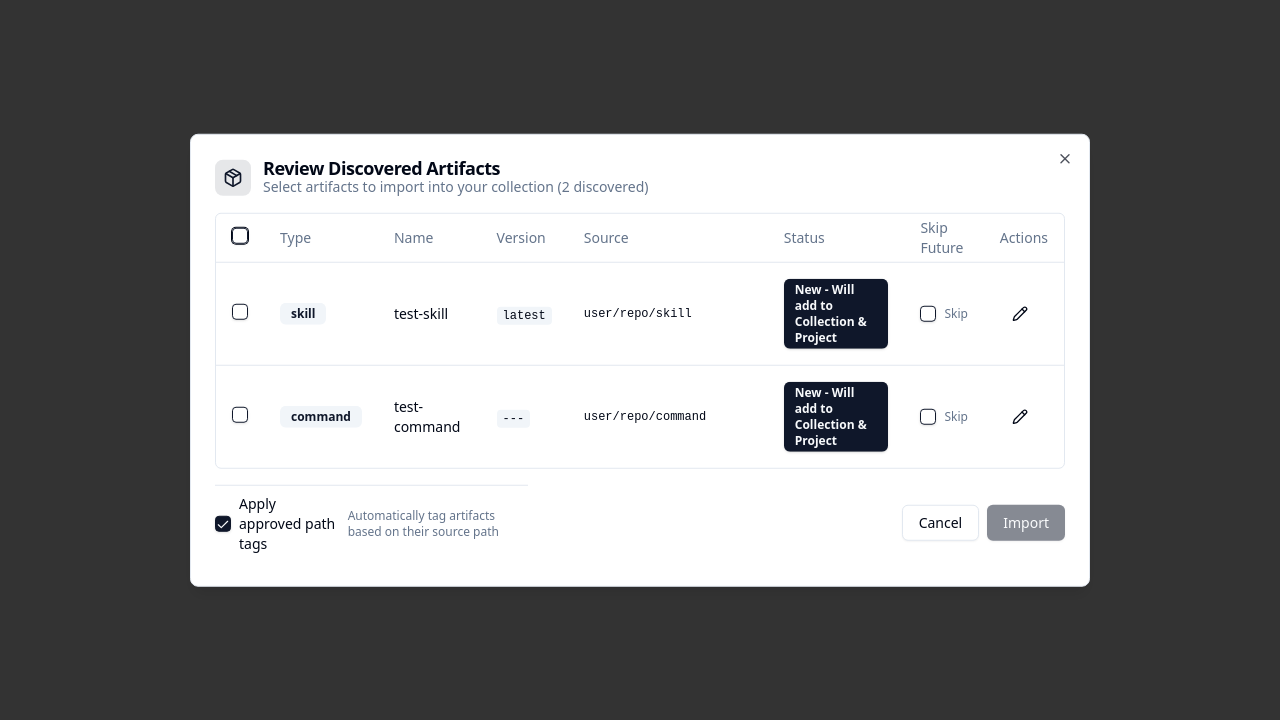
BulkImportModal › checkbox selection works
Find checkboxes (first is "select all", others are individual)
Click the checkbox named "Select test-skill": x=240, y=311 [232,303,248,319]
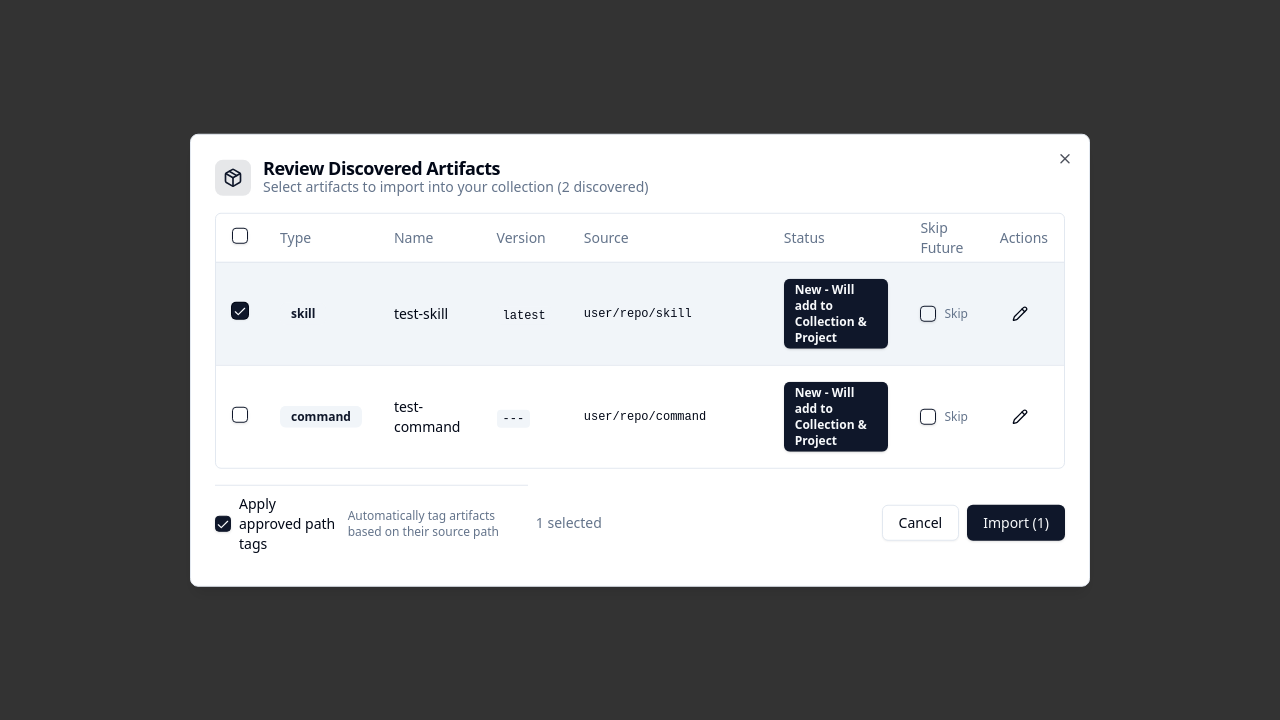
Check: the text "1 selected" is shown, box [536,513,602,533]
Check: the button "Import (1)" is shown, box [967,505,1065,541]
